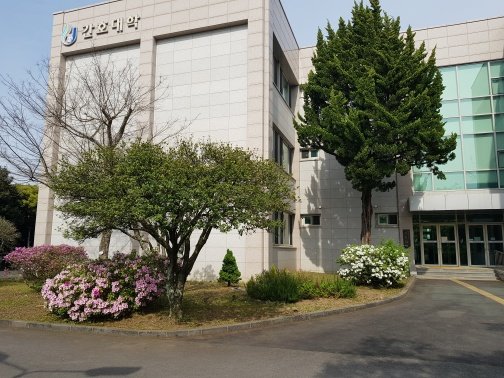College of Nursing: (38, 2, 494, 282), (57, 12, 145, 56)
